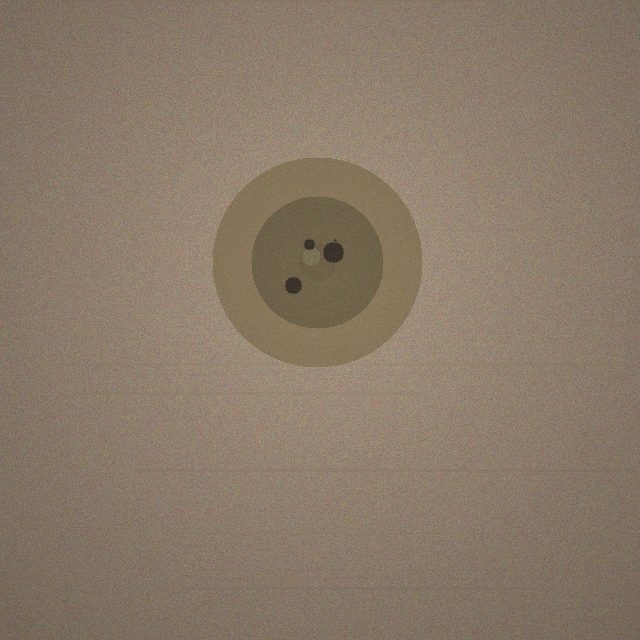shrinkage: (212, 157, 422, 367)
